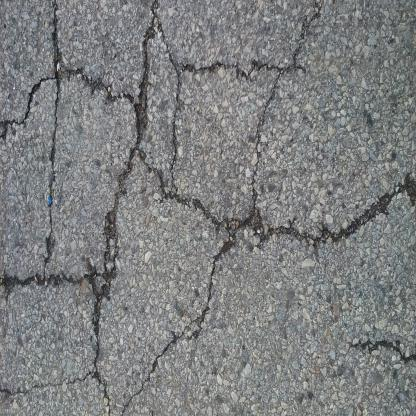Cracks: (0, 1, 325, 415), (255, 162, 415, 253), (350, 325, 416, 370)
